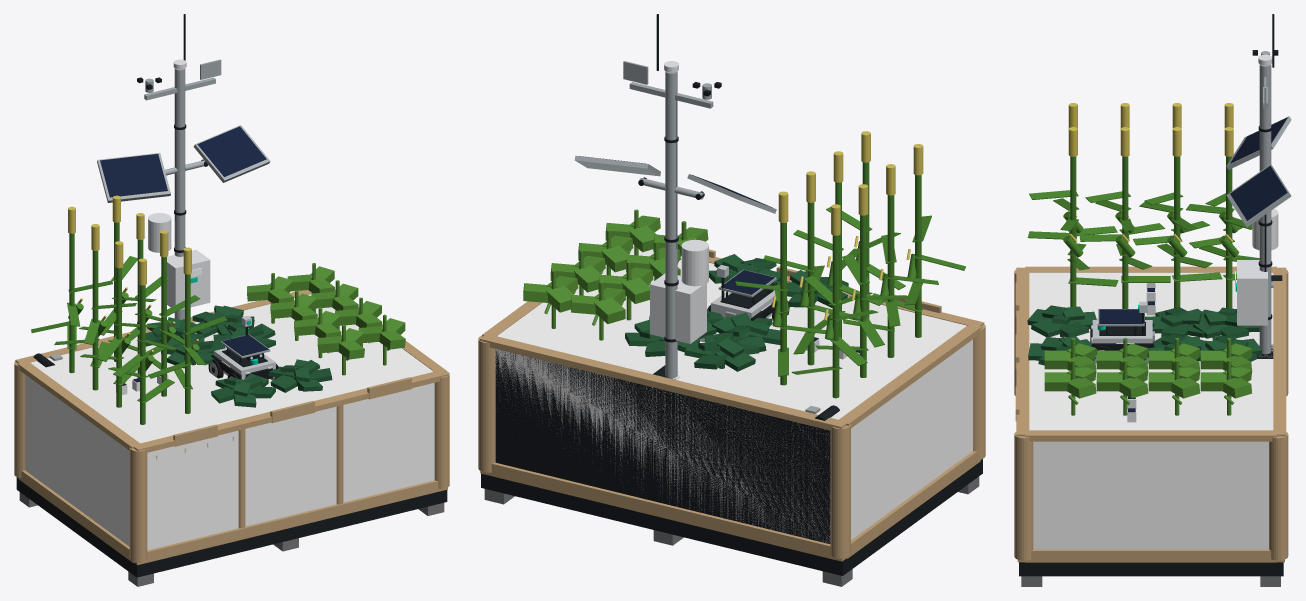
Rendered from agrigcs_platform.obj.
The picture shows the model from 3 angles, left to right: view 1: azimuth 30°, elevation 25°; view 2: azimuth 150°, elevation 25°; view 3: azimuth 270°, elevation 25°; orthographic projection. The views are drawn at different scales.
Visible parts, largest first — view 1: Ref_Bounding_Box_3x2x1.2m, Platform_Chassis_Base, Platform_Wood_Base_Rim_Front, Solar_PV_Cell_Bed, Weather_Mast_Column, Platform_Corner_Column_01, Platform_Wood_Top_Coping_Front, Solar_PV_Cell_Bed_Right, Platform_Wood_Top_Coping_Left, Weather_Gateway_Enclosure, Platform_Corner_Column_02, Platform_Wood_Base_Rim_Left (+18 smaller); view 2: Ref_Bounding_Box_3x2x1.2m, Platform_Retaining_Wall_Rear, Platform_Chassis_Base, Platform_Wood_Base_Rim_Rear, Platform_Wood_Top_Coping_Rear, Weather_Mast_Column, Platform_Corner_Column_03, Weather_Gateway_Enclosure, Platform_Wood_Top_Coping_Left, Platform_Corner_Column_04, Platform_Wood_Base_Rim_Left, Platform_Corner_Column_01 (+10 smaller); view 3: Ref_Bounding_Box_3x2x1.2m, Platform_Chassis_Base, Platform_Wood_Base_Rim_Right, Platform_Wood_Top_Coping_Right, Platform_Corner_Column_04, Platform_Corner_Column_02, Weather_Mast_Column, Platform_Wood_Top_Coping_Rear, Platform_Wood_Top_Coping_Front, Weather_Gateway_Enclosure, Solar_PV_Cell_Bed_Right, Platform_Wood_Top_Coping_Left (+25 smaller).
Part boxes in pixels (left/top/right/bottom): Ref_Bounding_Box_3x2x1.2m: left=25, top=294, right=434, bottom=550; Platform_Chassis_Base: left=16, top=477, right=447, bottom=577; Platform_Wood_Base_Rim_Front: left=134, top=480, right=447, bottom=565; Solar_PV_Cell_Bed: left=100, top=154, right=167, bottom=197; Weather_Mast_Column: left=174, top=68, right=185, bottom=319; Platform_Corner_Column_01: left=129, top=447, right=147, bottom=562; Platform_Wood_Top_Coping_Front: left=132, top=369, right=448, bottom=452; Solar_PV_Cell_Bed_Right: left=197, top=126, right=266, bottom=176; Platform_Wood_Top_Coping_Left: left=17, top=362, right=139, bottom=450; Weather_Gateway_Enclosure: left=167, top=249, right=210, bottom=309; Platform_Corner_Column_02: left=434, top=371, right=449, bottom=488; Platform_Wood_Base_Rim_Left: left=18, top=470, right=133, bottom=562; Ref_Bounding_Box_3x2x1.2m: left=495, top=244, right=972, bottom=543; Platform_Retaining_Wall_Rear: left=495, top=350, right=830, bottom=543; Platform_Chassis_Base: left=481, top=459, right=982, bottom=575; Platform_Wood_Base_Rim_Rear: left=480, top=462, right=846, bottom=561; Platform_Wood_Top_Coping_Rear: left=479, top=335, right=846, bottom=430; Weather_Mast_Column: left=665, top=71, right=677, bottom=377; Platform_Corner_Column_03: left=830, top=424, right=850, bottom=558; Weather_Gateway_Enclosure: left=650, top=273, right=706, bottom=343; Platform_Wood_Top_Coping_Left: left=837, top=323, right=981, bottom=428; Platform_Corner_Column_04: left=478, top=335, right=495, bottom=472; Platform_Wood_Base_Rim_Left: left=846, top=451, right=980, bottom=558; Platform_Corner_Column_01: left=973, top=324, right=985, bottom=459; Ref_Bounding_Box_3x2x1.2m: left=1029, top=272, right=1273, bottom=549; Platform_Chassis_Base: left=1019, top=562, right=1283, bottom=576; Platform_Wood_Base_Rim_Right: left=1025, top=549, right=1276, bottom=562; Platform_Wood_Top_Coping_Right: left=1025, top=430, right=1276, bottom=441; Platform_Corner_Column_04: left=1269, top=432, right=1288, bottom=560; Platform_Corner_Column_02: left=1014, top=432, right=1033, bottom=560; Weather_Mast_Column: left=1259, top=64, right=1271, bottom=354; Platform_Wood_Top_Coping_Rear: left=1273, top=267, right=1286, bottom=436; Platform_Wood_Top_Coping_Front: left=1016, top=267, right=1029, bottom=436; Weather_Gateway_Enclosure: left=1237, top=260, right=1267, bottom=325; Solar_PV_Cell_Bed_Right: left=1230, top=165, right=1287, bottom=220; Platform_Wood_Top_Coping_Left: left=1025, top=266, right=1276, bottom=272.
Bounding box in the file's own units: 3.12 × 4.21 × 2.14.
